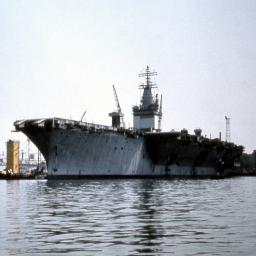Portanaves: (12, 64, 248, 182)
